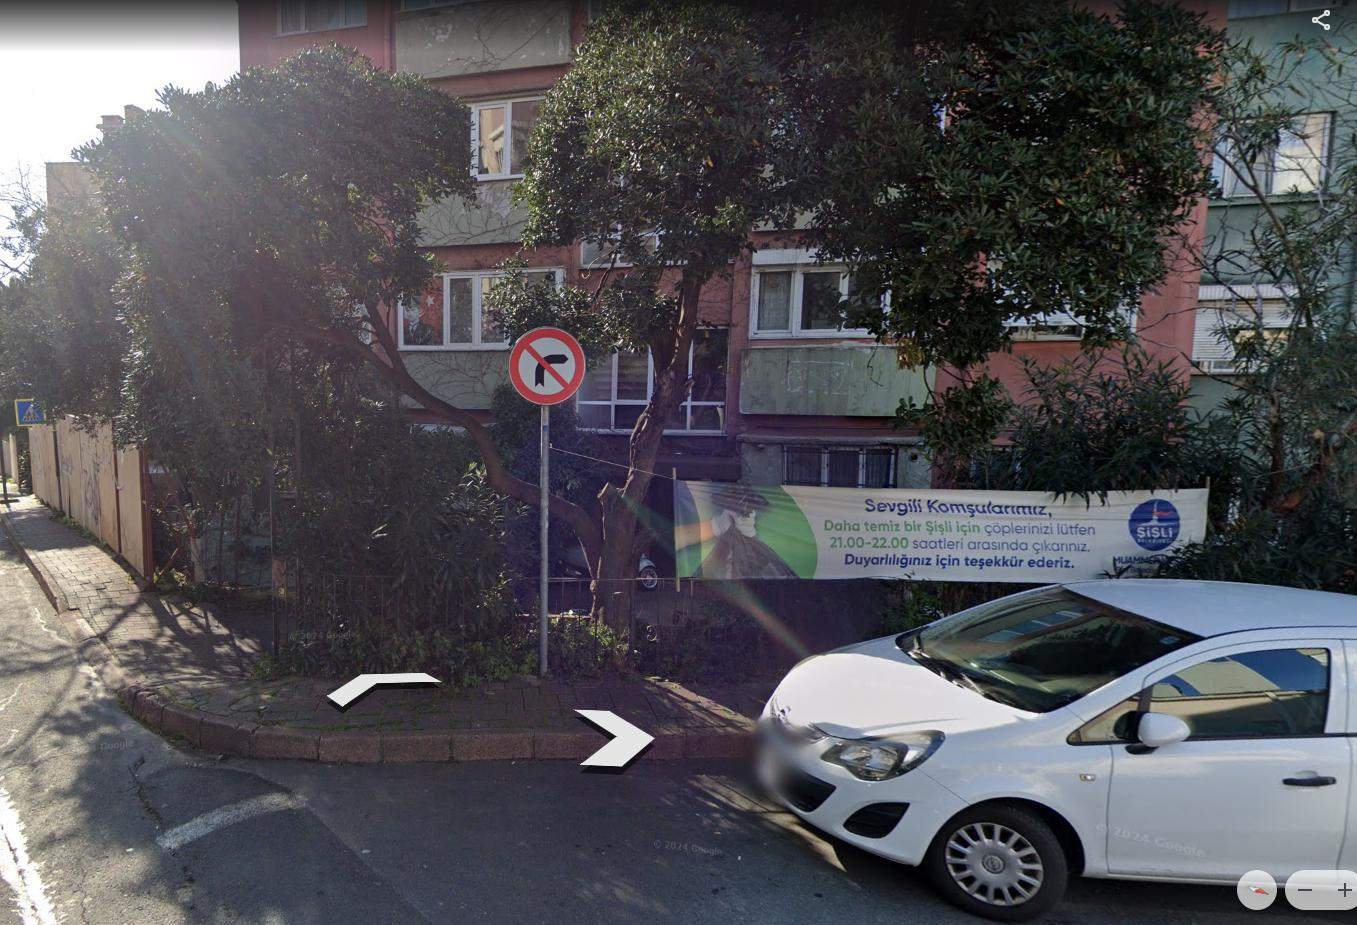rightturnsareforbidden: (511, 331, 585, 401)
